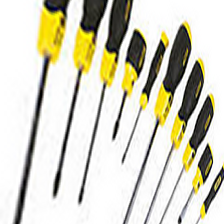Screwdriver: (109, 22, 160, 169)
